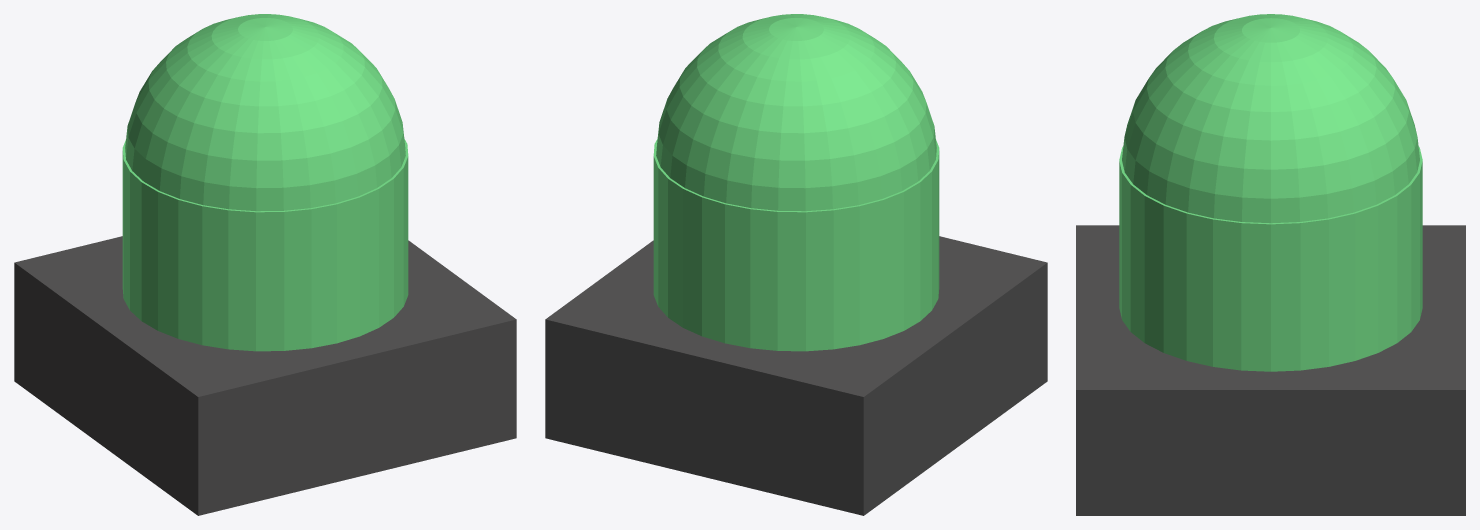
Rendered from gruener_button.glb.
3 views of the same model, side by side, from view 1: azimuth 30°, elevation 25°; view 2: azimuth 150°, elevation 25°; view 3: azimuth 270°, elevation 25° (orthographic). The views are drawn at different scales.
Visible parts, largest first — view 1: Cube, Sphere, Cylinder; view 2: Cube, Sphere, Cylinder; view 3: Cube, Sphere, Cylinder.
Part boxes in pixels (x1=…): Cube: x1=14, y1=236, x2=516, y2=515; Sphere: x1=125, y1=14, x2=405, y2=211; Cylinder: x1=122, y1=139, x2=408, y2=351; Cube: x1=545, y1=236, x2=1047, y2=515; Sphere: x1=656, y1=14, x2=936, y2=211; Cylinder: x1=653, y1=139, x2=939, y2=351; Cube: x1=1076, y1=225, x2=1465, y2=515; Sphere: x1=1122, y1=14, x2=1419, y2=223; Cylinder: x1=1119, y1=146, x2=1422, y2=371.
Bounding box in the file's own units: 1.22 × 1.4 × 1.22.
